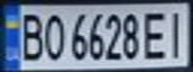2: (103, 9, 124, 61)
6: (66, 9, 87, 61), (87, 9, 106, 62)
8: (121, 9, 145, 61)
B: (15, 9, 45, 62)
E: (139, 8, 172, 61)
I: (163, 6, 193, 60)
O: (39, 9, 66, 62)
